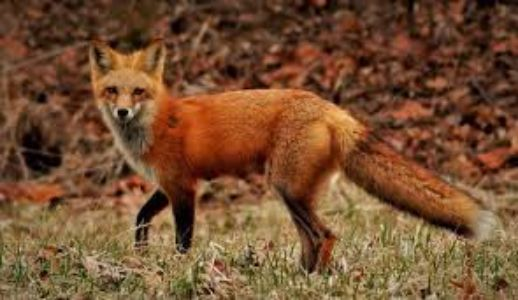fox: (81, 34, 494, 276)
